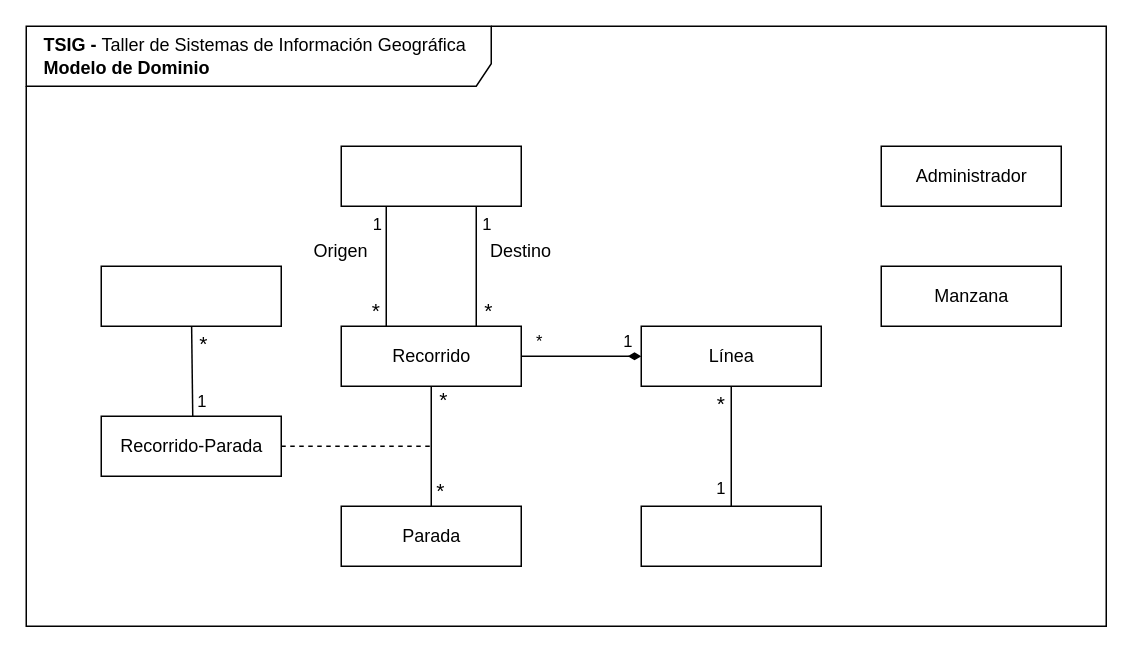
Image size: 1133x653. Some labels were removed from this diagram. Each missing label, with the box of its shape:
Compañía: (640, 505, 821, 566)
Horario: (100, 265, 281, 326)
Terminal: (340, 145, 521, 206)
